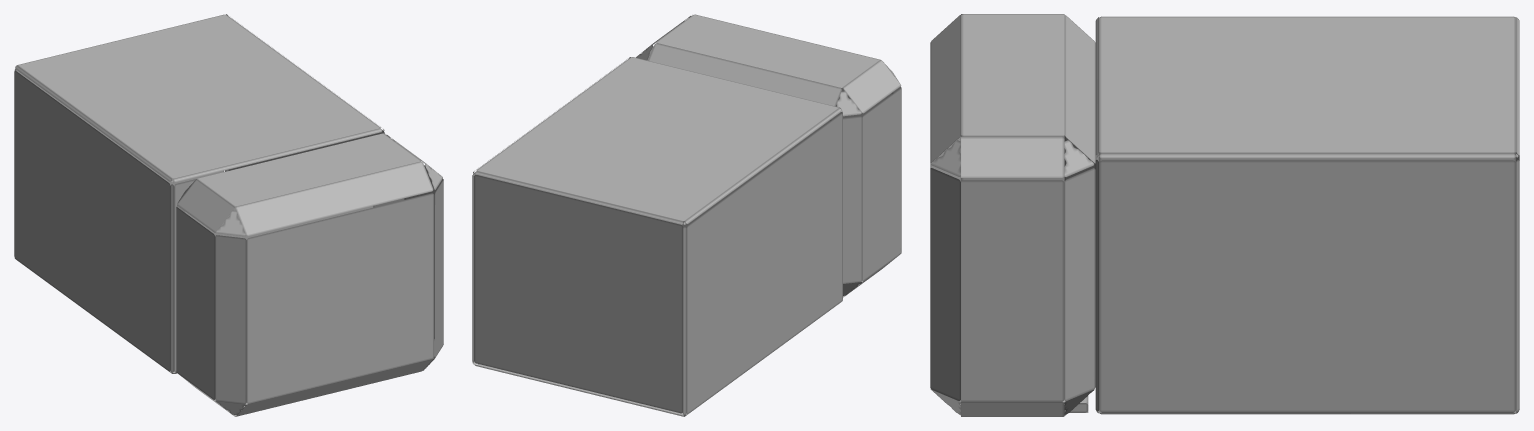
File: pz_trashbin_fossoil.obj
3 renders of one model, left to right at view 1: azimuth 30°, elevation 25°; view 2: azimuth 150°, elevation 25°; view 3: azimuth 270°, elevation 25°, orthographic. The views are drawn at different scales.
Visible parts, largest first — view 1: pz_trashbin_fossoil_|_native_square_bin_cabinet, pz_trashbin_fossoil_|_rounded_public_waste_hood; view 2: pz_trashbin_fossoil_|_native_square_bin_cabinet, pz_trashbin_fossoil_|_rounded_public_waste_hood; view 3: pz_trashbin_fossoil_|_native_square_bin_cabinet, pz_trashbin_fossoil_|_rounded_public_waste_hood.
Part boxes in pixels (bbox=[...]): pz_trashbin_fossoil_|_native_square_bin_cabinet: bbox=[14, 14, 384, 373]; pz_trashbin_fossoil_|_rounded_public_waste_hood: bbox=[176, 133, 443, 416]; pz_trashbin_fossoil_|_native_square_bin_cabinet: bbox=[472, 57, 842, 416]; pz_trashbin_fossoil_|_rounded_public_waste_hood: bbox=[636, 14, 901, 297]; pz_trashbin_fossoil_|_native_square_bin_cabinet: bbox=[1095, 16, 1519, 414]; pz_trashbin_fossoil_|_rounded_public_waste_hood: bbox=[930, 14, 1095, 416].
Bounding box in the file's own units: 0.49 × 0.434 × 0.82.
Materials: 1 (1 with a texture image).
